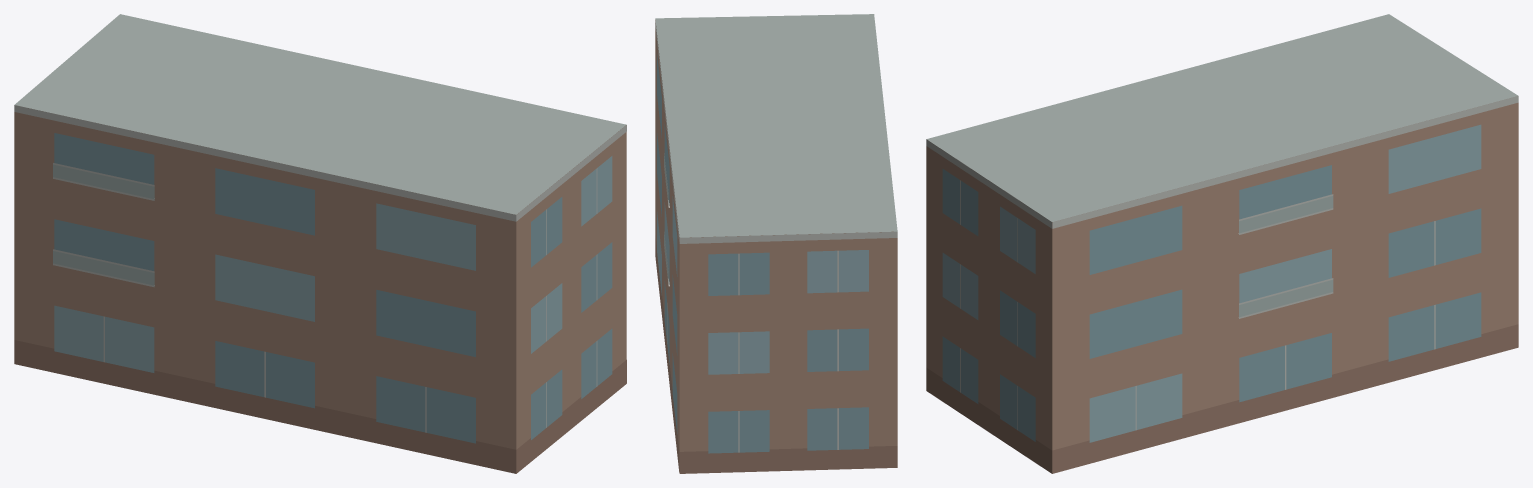
Rendered from survey-upis-32789928.glb.
3 views of the same model, side by side, from view 1: azimuth 30°, elevation 25°; view 2: azimuth 150°, elevation 25°; view 3: azimuth 270°, elevation 25° (orthographic). The views are drawn at different scales.
Visible parts, largest first — view 1: survey-upis-32789928.tmp; view 2: survey-upis-32789928.tmp; view 3: survey-upis-32789928.tmp.
Boxes of the visible parts, box(x1,y1,x2,y2) form: survey-upis-32789928.tmp: box(14, 14, 626, 473); survey-upis-32789928.tmp: box(655, 14, 897, 473); survey-upis-32789928.tmp: box(926, 14, 1518, 473).
Size of the model in its own units: 16.24 by 9.15 by 19.52.
